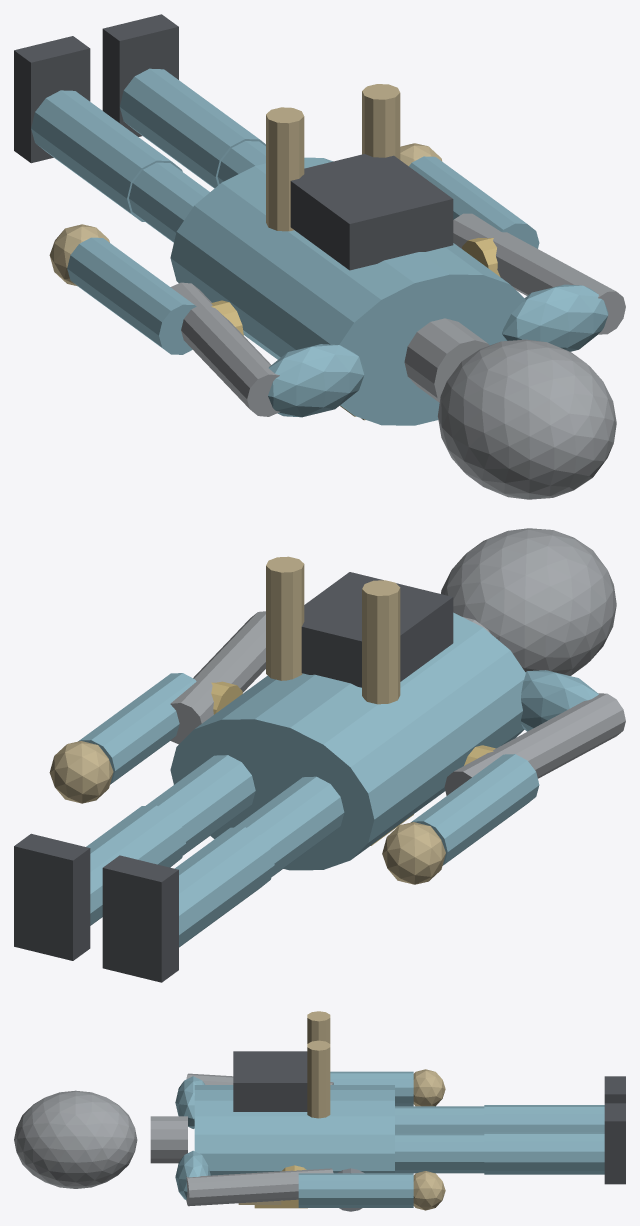
The model's file is SWN-011_rook_tallis.glb.
3 views of the same model, one above another, from view 1: azimuth 30°, elevation 25°; view 2: azimuth 150°, elevation 25°; view 3: azimuth 270°, elevation 25° (orthographic). The views are drawn at different scales.
Parts seen in each view (by area): view 1: body_spine, head, back_thruster_pack, greave_-1, greave_1, forearm_gauntlet_-1, upper_arm_-1, boot_-1, shoulder_plate_-1, upper_arm_1, boot_1, shoulder_plate_1 (+8 smaller); view 2: body_spine, head, back_thruster_pack, boot_-1, boot_1, greave_-1, forearm_gauntlet_-1, upper_arm_-1, thigh_-1, thigh_1, forearm_gauntlet_1, greave_1 (+7 smaller); view 3: body_spine, head, greave_1, back_thruster_pack, forearm_gauntlet_1, thigh_1, upper_arm_1, greave_-1, thigh_-1, aether_thruster_1, boot_1, neck (+8 smaller).
Boxes of the visible parts, x1,y1,x2,y2 form: body_spine: (170, 157, 525, 425); head: (437, 339, 616, 499); back_thruster_pack: (290, 154, 453, 270); greave_-1: (31, 90, 182, 221); greave_1: (119, 68, 265, 188); forearm_gauntlet_-1: (67, 237, 196, 354); upper_arm_-1: (170, 282, 279, 416); boot_-1: (14, 36, 90, 163); shoulder_plate_-1: (268, 344, 364, 417); upper_arm_1: (453, 213, 625, 334); boot_1: (102, 14, 178, 136); shoulder_plate_1: (502, 284, 608, 351); body_spine: (170, 612, 525, 870); head: (441, 528, 616, 675); back_thruster_pack: (301, 572, 453, 687); boot_-1: (102, 855, 178, 982); boot_1: (14, 833, 90, 960); greave_-1: (175, 827, 274, 947); forearm_gauntlet_-1: (411, 754, 539, 865); upper_arm_-1: (444, 693, 625, 795); thigh_-1: (235, 776, 344, 876); thigh_1: (146, 755, 255, 855); forearm_gauntlet_1: (78, 673, 196, 784); greave_1: (86, 805, 185, 925); body_spine: (194, 1085, 394, 1175); head: (14, 1090, 137, 1188); greave_1: (484, 1132, 604, 1174); back_thruster_pack: (233, 1051, 307, 1111); forearm_gauntlet_1: (298, 1173, 413, 1207); thigh_1: (395, 1133, 484, 1173); upper_arm_1: (186, 1168, 333, 1206); greave_-1: (484, 1105, 604, 1132); thigh_-1: (395, 1106, 484, 1133); aether_thruster_1: (307, 1040, 330, 1118); boot_1: (604, 1103, 625, 1184); neck: (150, 1116, 187, 1163).
Bounding box in the file's own units: 1.05 × 0.695 × 2.29.
